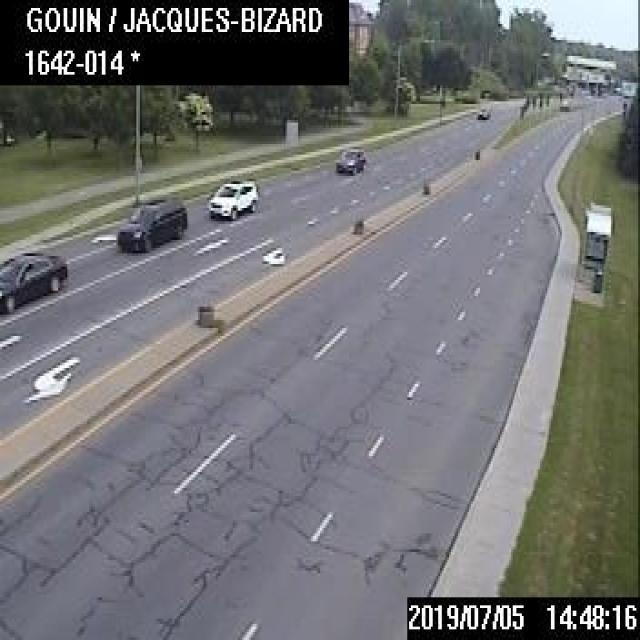vehicle: (0, 249, 67, 313), (115, 194, 186, 251), (206, 176, 258, 219), (334, 146, 364, 172), (476, 104, 490, 118)
